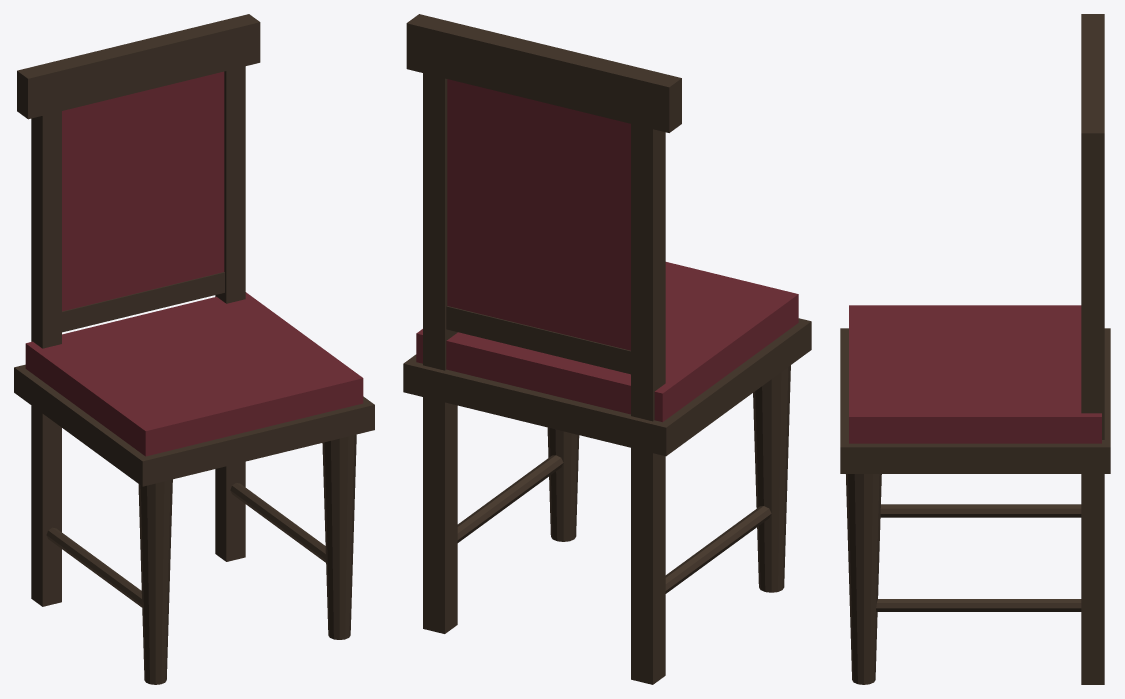
File: SM_Furniture_DiningChair_01.glb
The picture shows the model from 3 angles, left to right: view 1: azimuth 30°, elevation 25°; view 2: azimuth 150°, elevation 25°; view 3: azimuth 270°, elevation 25°; orthographic projection. The views are drawn at different scales.
Visible parts, largest first — view 1: SM_Furniture_DiningChair_01; view 2: SM_Furniture_DiningChair_01; view 3: SM_Furniture_DiningChair_01.
Part boxes in pixels (<box>): SM_Furniture_DiningChair_01: <box>14,14,374,684</box>; SM_Furniture_DiningChair_01: <box>403,14,811,684</box>; SM_Furniture_DiningChair_01: <box>840,14,1110,684</box>.
Size of the model in its own units: 0.48 by 1.05 by 0.46.
